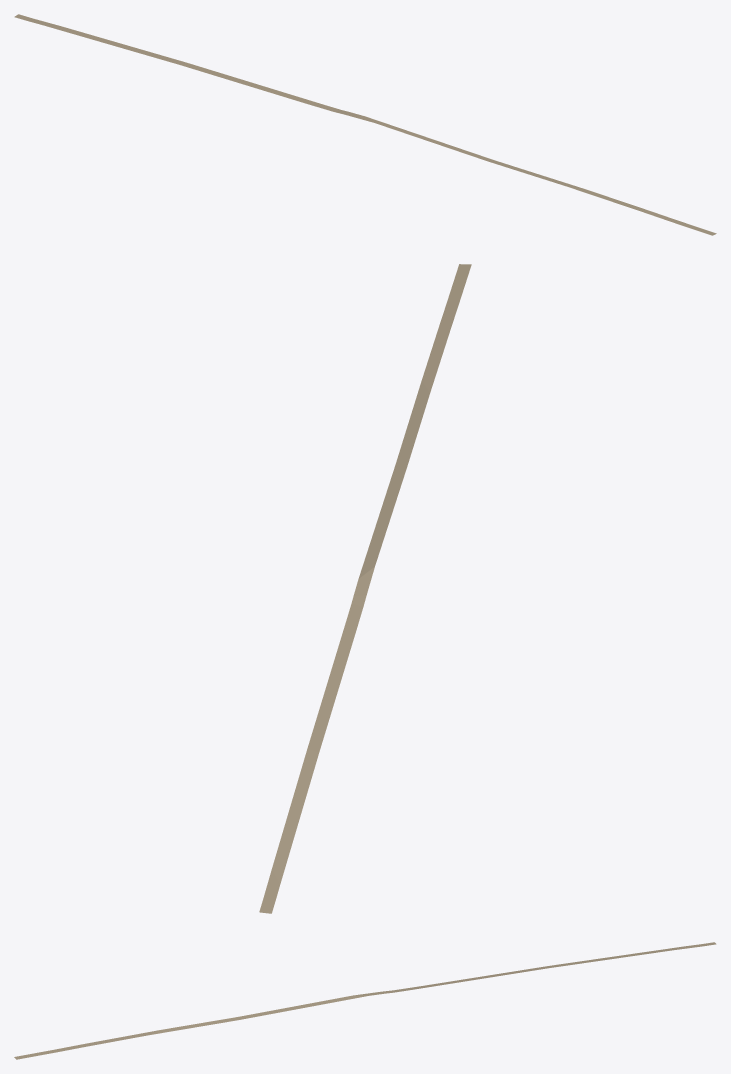
File: farm_-2_14_track.glb
The picture shows the model from 3 angles, top to bottom: view 1: azimuth 30°, elevation 25°; view 2: azimuth 150°, elevation 25°; view 3: azimuth 270°, elevation 25°; orthographic projection. The views are drawn at different scales.
Parts seen in each view (by area): view 1: geometry_0; view 2: geometry_0; view 3: geometry_0.
Boxes of the visible parts, box(x1,y1,x2,y2) form: geometry_0: box(14, 14, 716, 235); geometry_0: box(259, 264, 471, 913); geometry_0: box(14, 942, 716, 1059).
Bounding box in the file's own units: 153 × 5.57 × 364.
